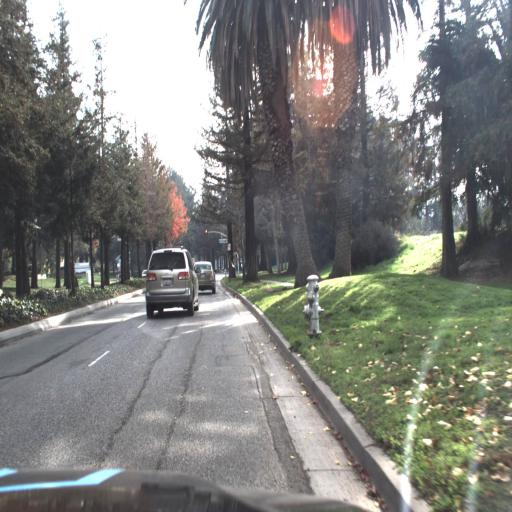car: (140, 241, 210, 323), (193, 258, 215, 295)
trafficLight-Red: (204, 226, 209, 236)
